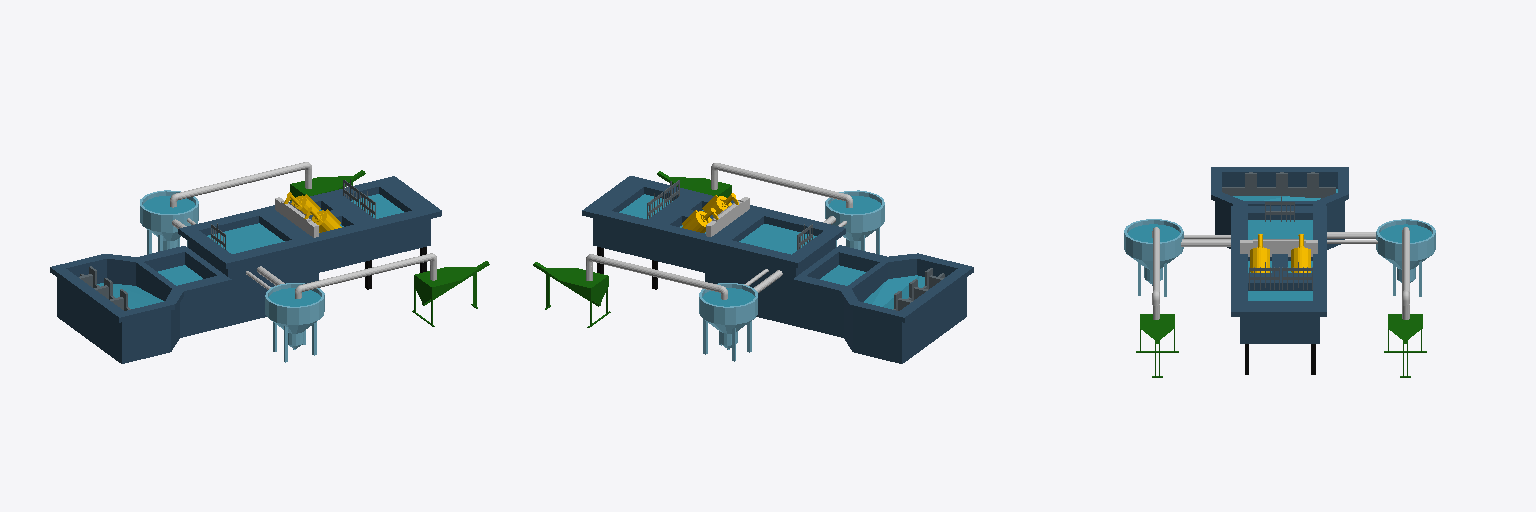
The model's file is fine_screens.obj.
The picture shows the model from 3 angles: view 1: azimuth 30°, elevation 25°; view 2: azimuth 150°, elevation 25°; view 3: azimuth 270°, elevation 25°; orthographic projection.
Parts seen in each view (by area): view 1: __, ___, ___.6, ___.1, __.4, __.16, ___.8, ___.2, ___.7; view 2: __, ___, ___.6, ___.1, __.4, __.16, ___.8, ___.7; view 3: __, ___, ___.6, ___.1, __.3, __.2.
Boxes of the visible parts, box(x1,y1,x2,y2) form: __: box(50, 162, 441, 363); ___: box(80, 177, 460, 362); ___.6: box(110, 223, 477, 309); ___.1: box(104, 176, 477, 355); __.4: box(303, 254, 429, 290); __.16: box(178, 163, 304, 199); ___.8: box(97, 283, 163, 308); ___.2: box(89, 170, 489, 344); ___.7: box(158, 265, 434, 326); __: box(582, 176, 973, 363); ___: box(561, 178, 944, 354); ___.6: box(545, 203, 943, 309); ___.1: box(544, 177, 917, 361); __.4: box(717, 163, 843, 200); __.16: box(592, 255, 719, 291); ___.8: box(864, 275, 924, 309); ___.7: box(587, 265, 865, 327); __: box(1124, 167, 1435, 343); ___: box(1140, 187, 1422, 352); ___.6: box(1152, 172, 1410, 377); ___.1: box(1138, 173, 1422, 374); __.3: box(1152, 227, 1375, 246); __.2: box(1152, 235, 1377, 319).
Bounding box in the file's own units: 4918 × 1222 × 3881.